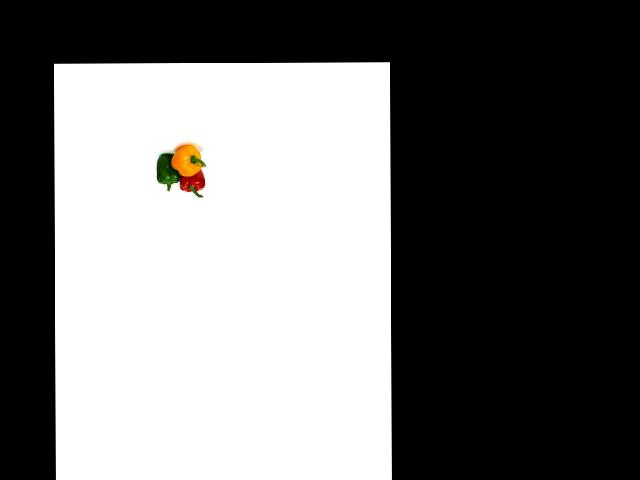bell_pepper: (175, 165, 209, 200)
